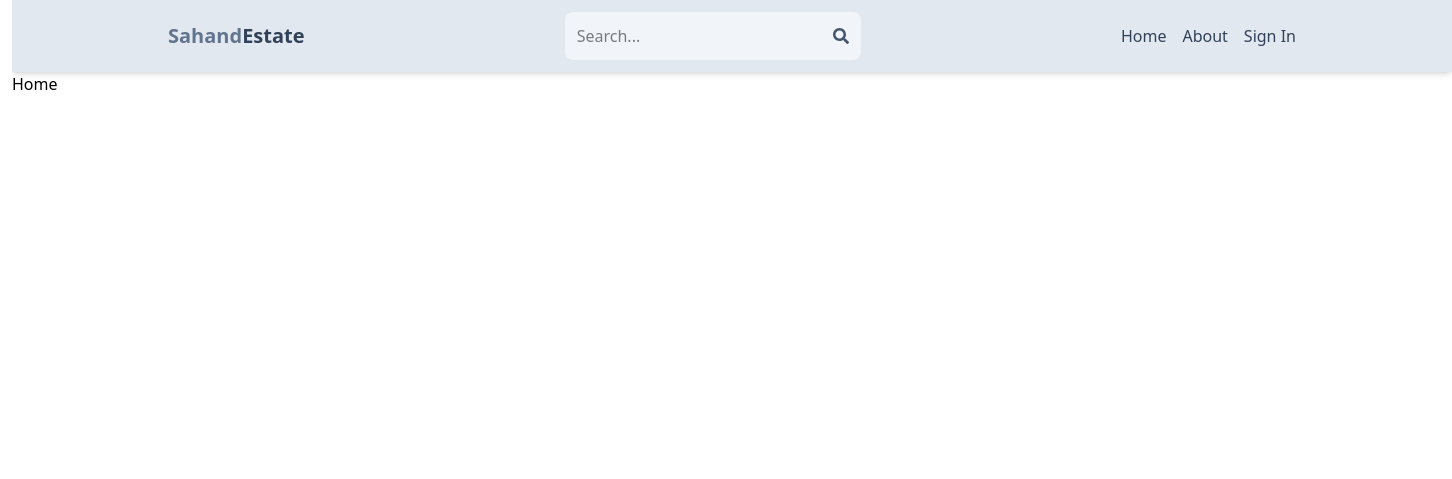
Test: Sign In Page Integration › should successfully login and handle redirect login
// Navigate to signin page first
Click the link "Sign In" at (1270, 36), box [1244, 24, 1296, 48]
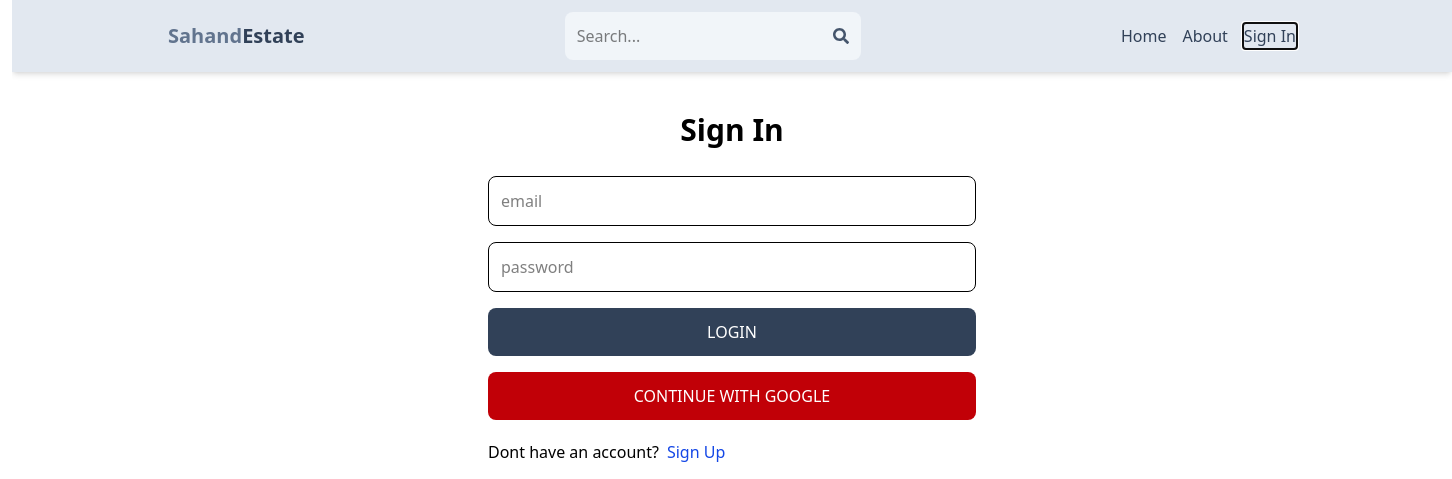
// Fill out input
Type "test@email.com" into the field with placeholder "email" at (732, 201), box [488, 176, 976, 226]
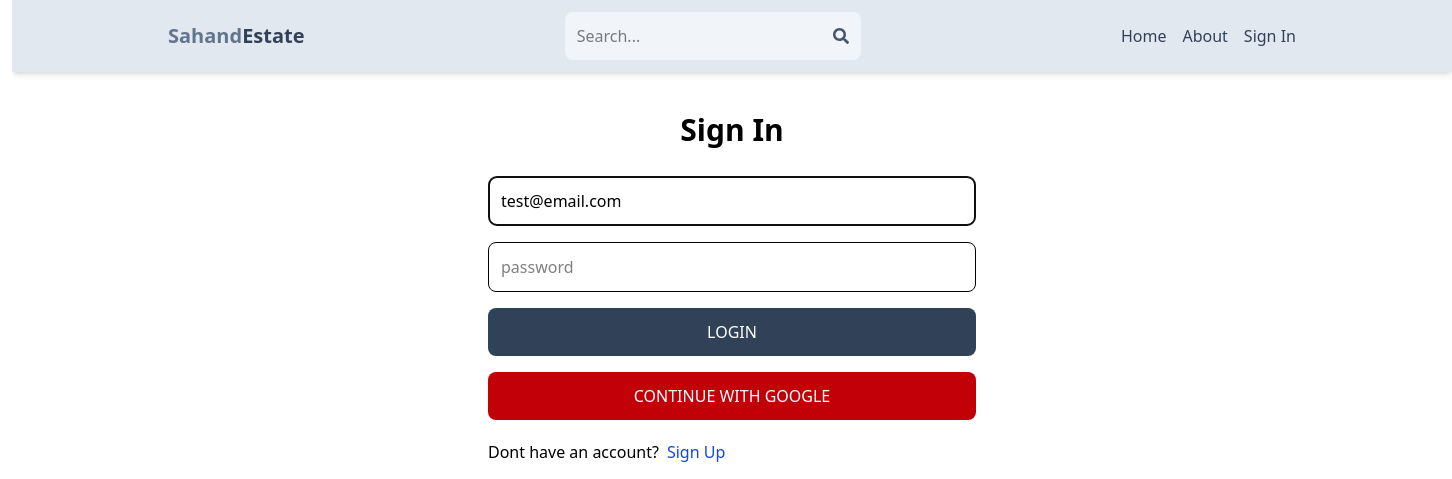
Type "testPassword" into the password field with placeholder "password" at (732, 267), box [488, 242, 976, 292]
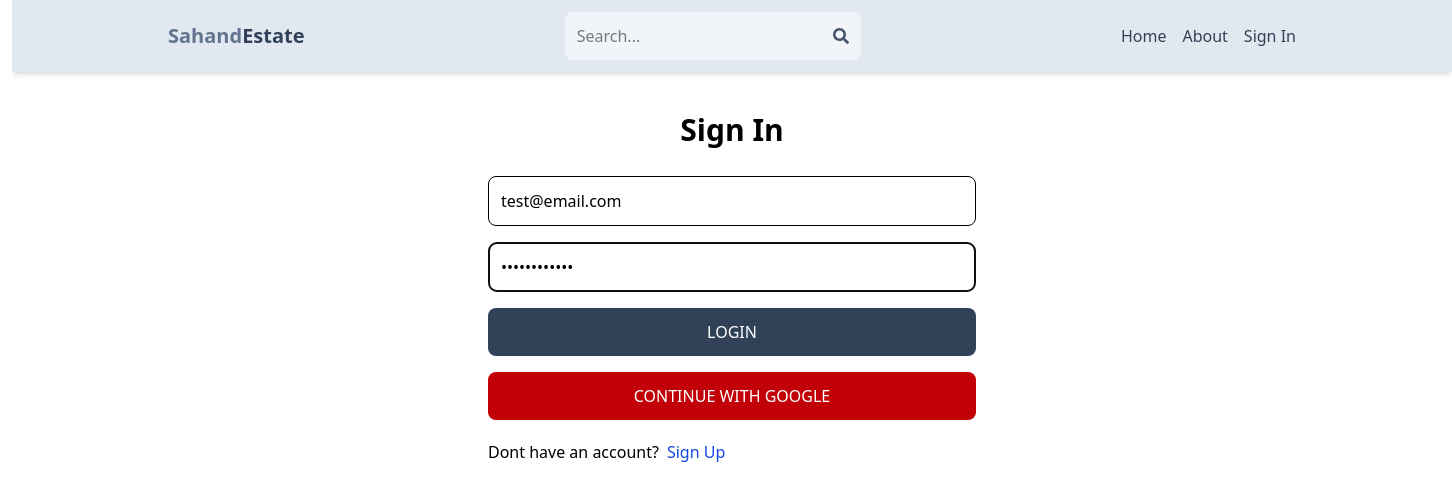
// Submit the form
Click the button "Login" at (732, 332), box [488, 308, 976, 356]
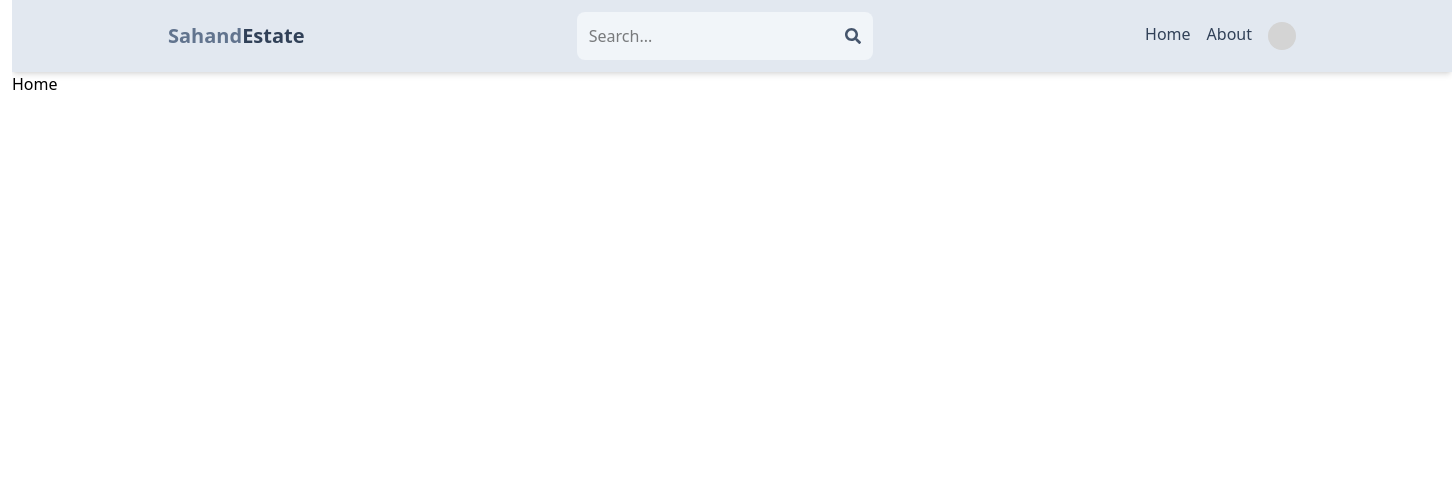
Expected: the heading "Home" is shown, [12, 73, 58, 95]
